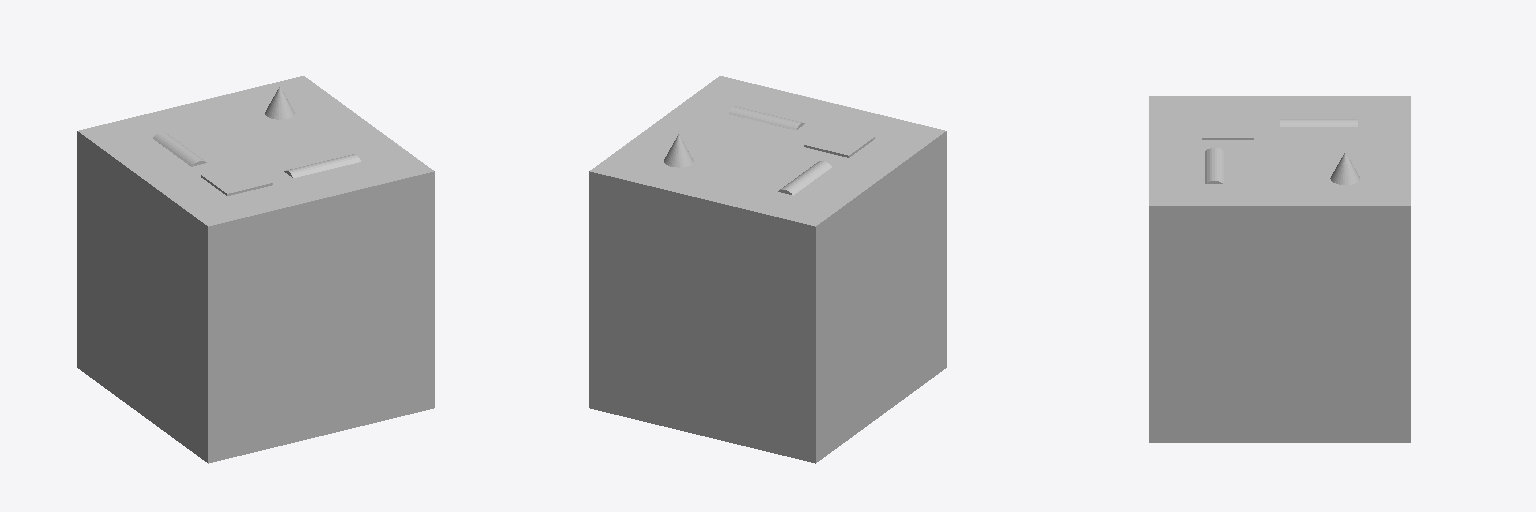
Rendered from building2.obj.
The picture shows the model from 3 angles: view 1: azimuth 30°, elevation 25°; view 2: azimuth 150°, elevation 25°; view 3: azimuth 270°, elevation 25°; orthographic projection.
Visible parts, largest first — view 1: Cube.001; view 2: Cube.001; view 3: Cube.001.
Part boxes in pixels (x1,y1,x2,y2): Cube.001: (77, 76, 434, 463); Cube.001: (589, 76, 946, 463); Cube.001: (1149, 96, 1410, 442).
Bounding box in the file's own units: 2 × 2.23 × 2.